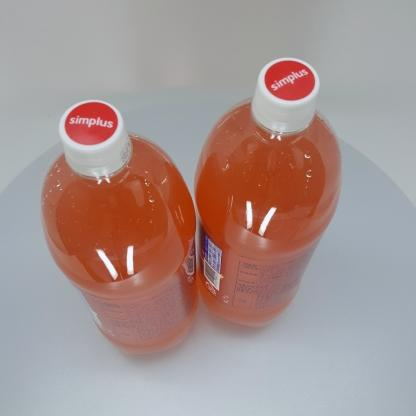--------------: (193, 57, 343, 328), (41, 99, 199, 355)
